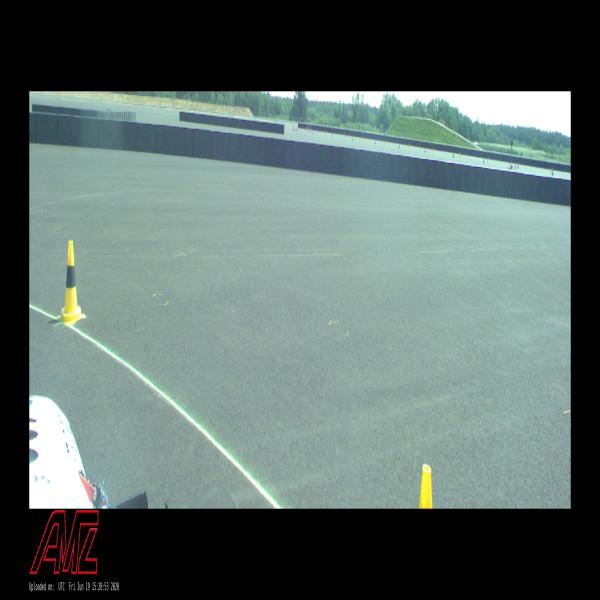yellow_cone: (58, 241, 84, 324)
